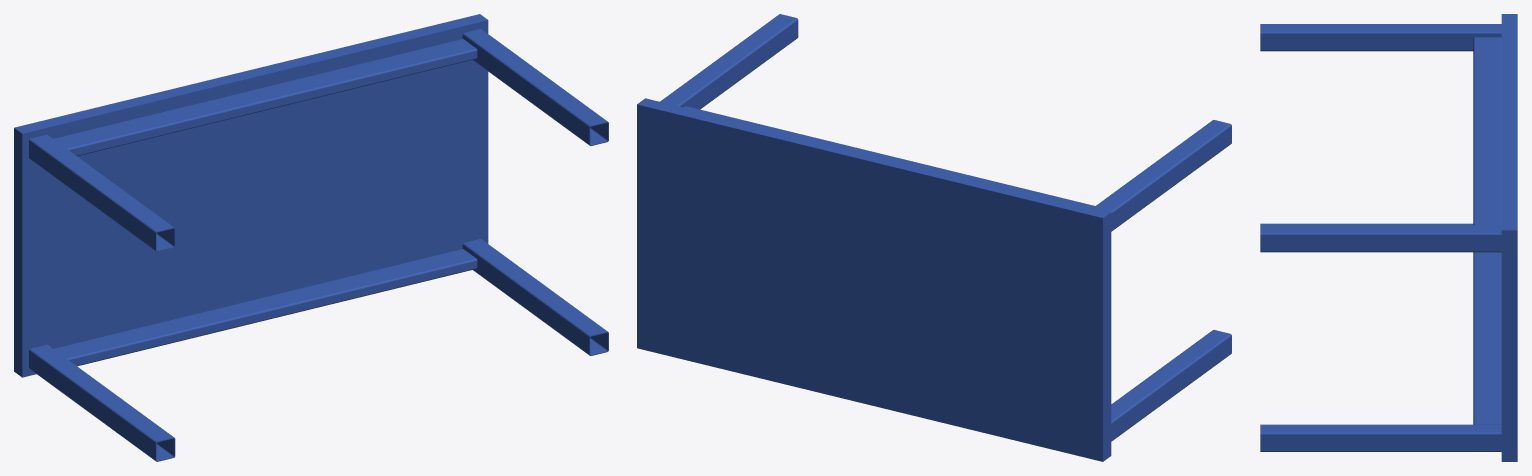
Rendered from workbench.dae.
The picture shows the model from 3 angles, left to right: view 1: azimuth 30°, elevation 25°; view 2: azimuth 150°, elevation 25°; view 3: azimuth 270°, elevation 25°; orthographic projection. The views are drawn at different scales.
Visible parts, largest first — view 1: ID2; view 2: ID2; view 3: ID2.
Boxes of the visible parts, x1,y1,x2,y2 form: ID2: (14,14,608,461); ID2: (637,14,1231,461); ID2: (1260,14,1517,461).
Size of the model in its own units: 4.65 by 2.34 by 2.32.
